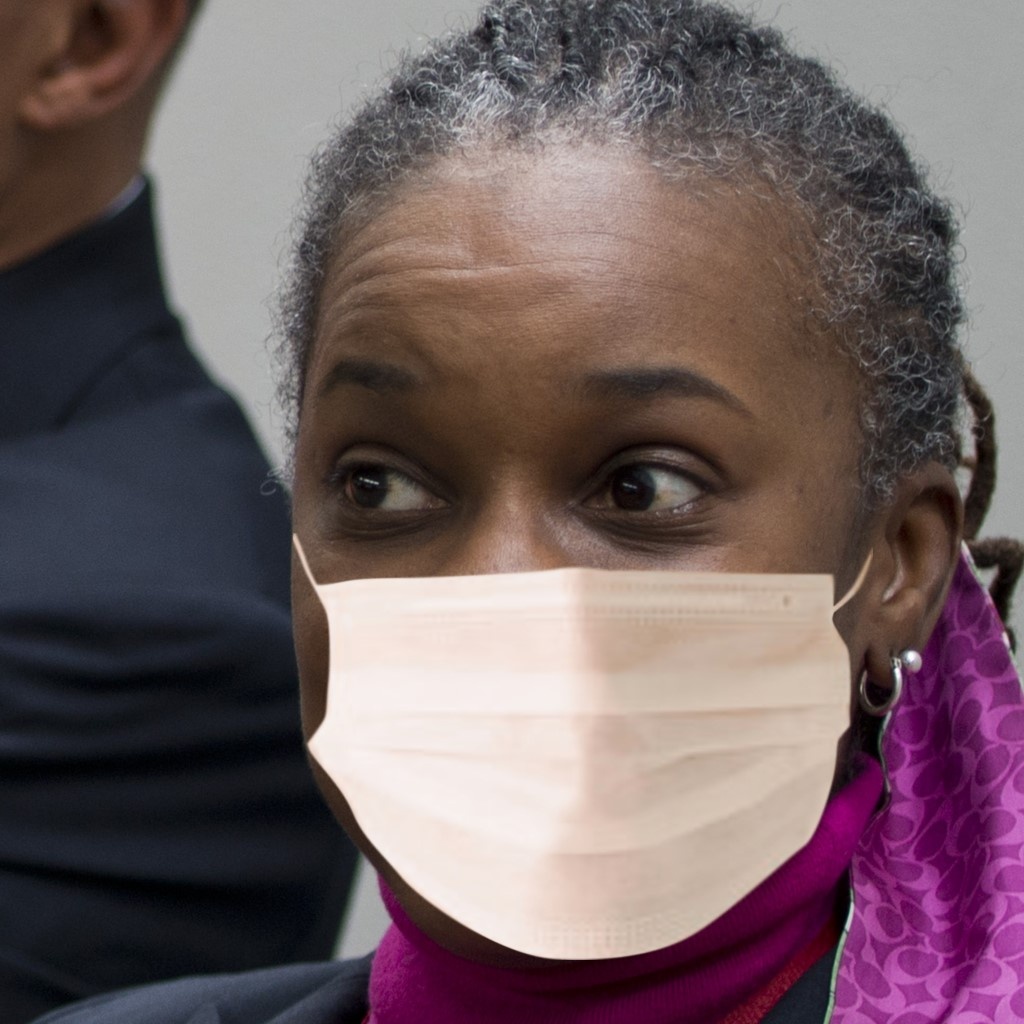con_mascara: (301, 125, 953, 945)
